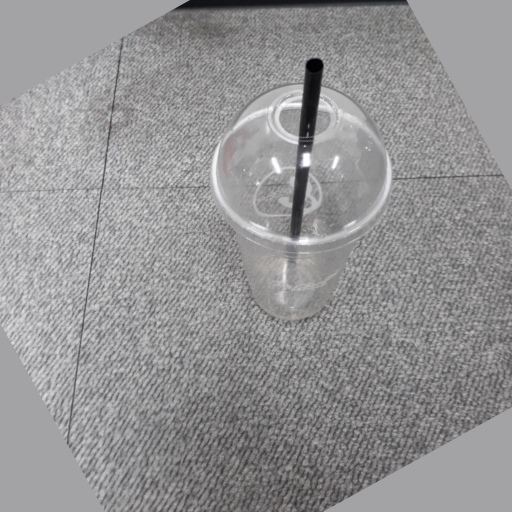Plastic_2: (207, 54, 395, 323)
